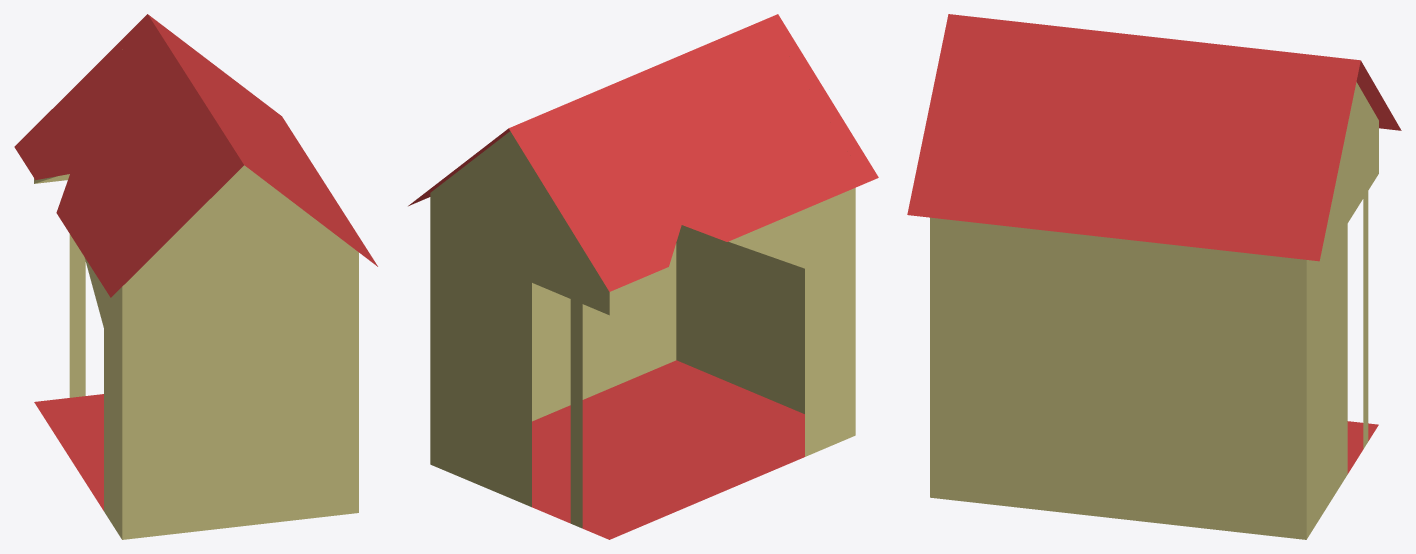
3 views of the same model, side by side, from view 1: azimuth 30°, elevation 25°; view 2: azimuth 150°, elevation 25°; view 3: azimuth 270°, elevation 25° (orthographic). The views are drawn at different scales.
Size of the model in its own units: 11.27 by 13.32 by 12.6.
